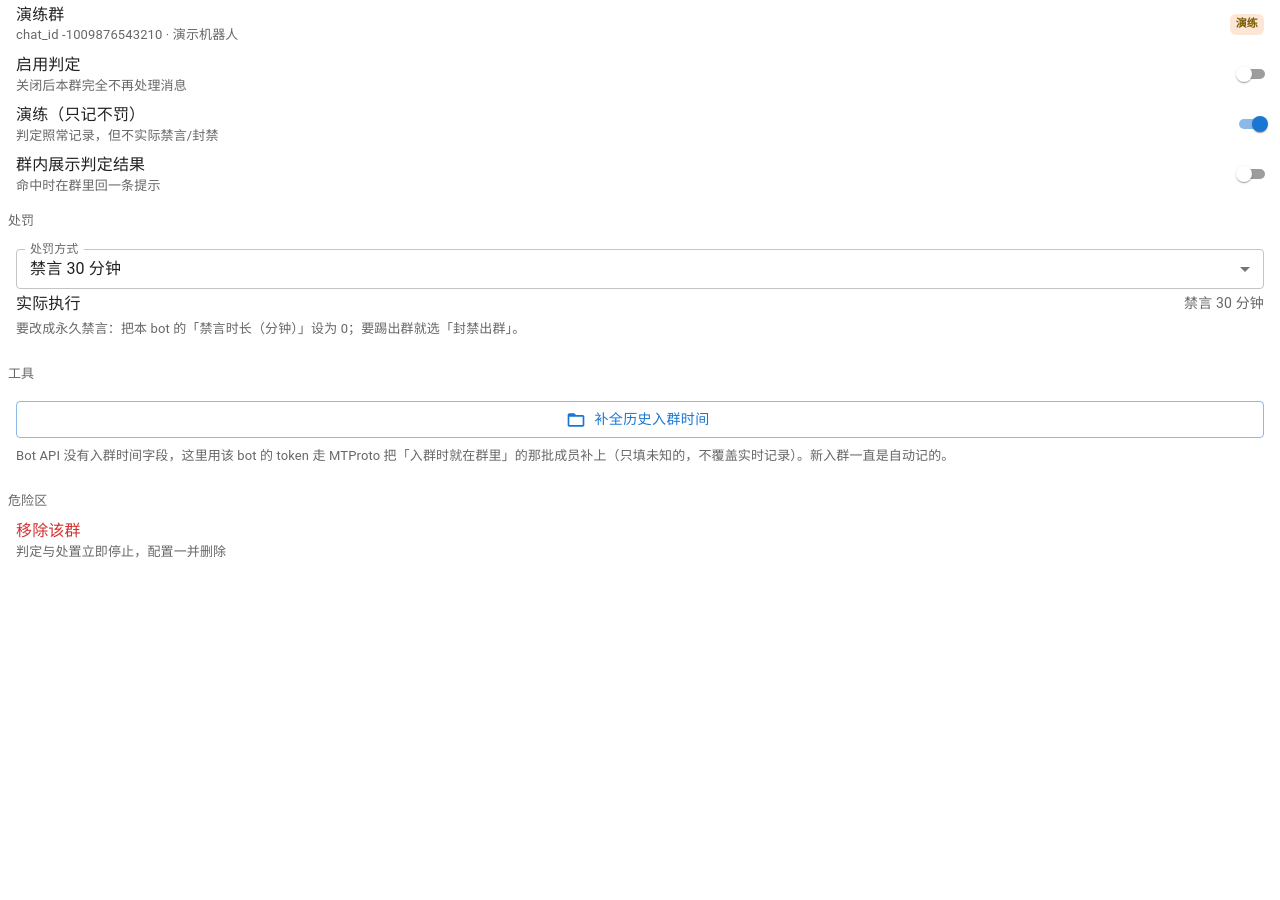
it: ChatDetailPage › 显示防错提示，补全按钮成功后 toast 服务端 note
The image size is (1280, 900).
Check: the text "实际执行" is shown, box [16,294,81,313]
Check: the text with test id "effective-punish" reads "禁言 30 分钟", box [1184,295,1264,311]
Click the button "补全历史入群时间": (640, 420) [16,401,1264,438]
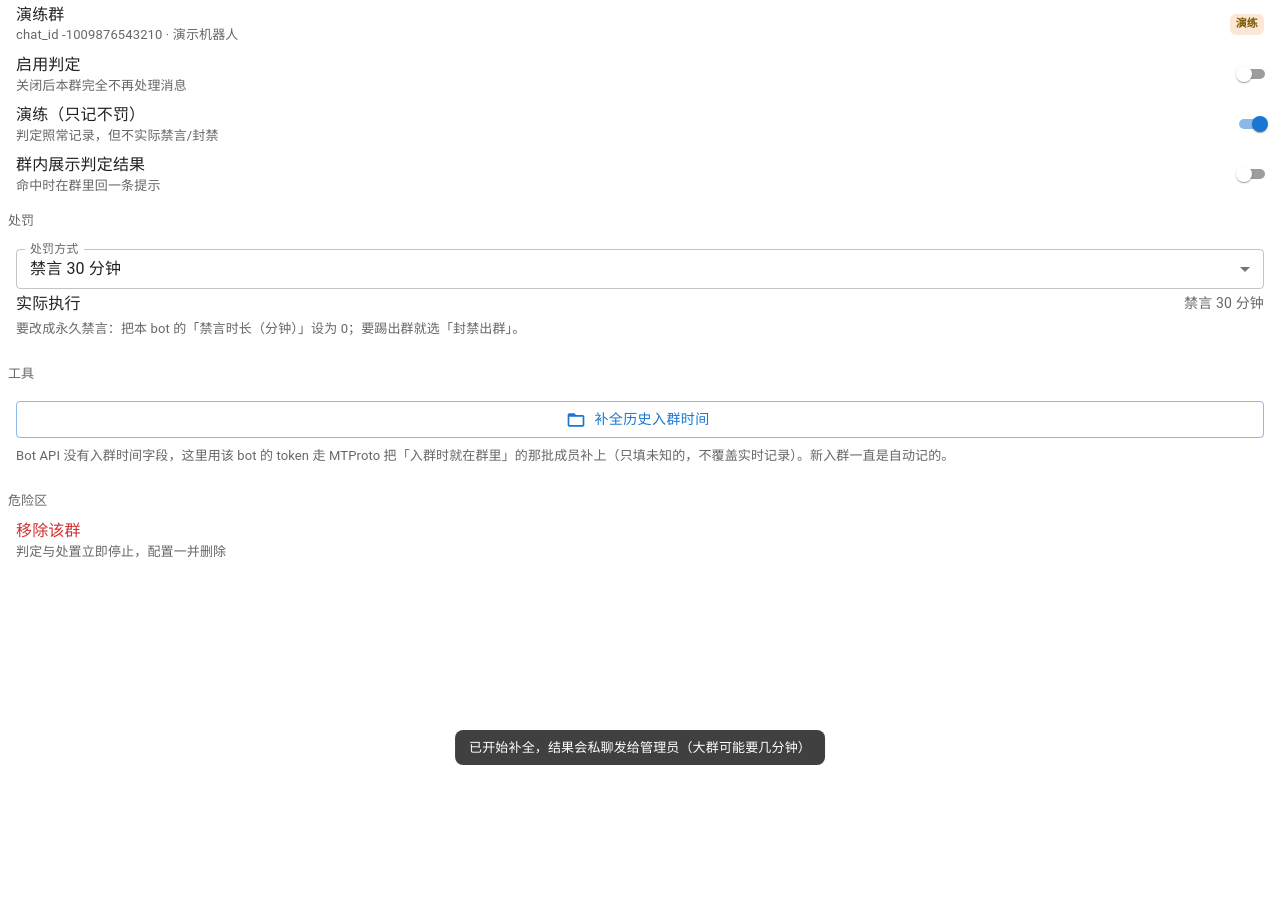
Check: the text "已开始补全，结果会私聊发给管理员（大群可能要几分钟）" is shown, box [455,730,825,765]
